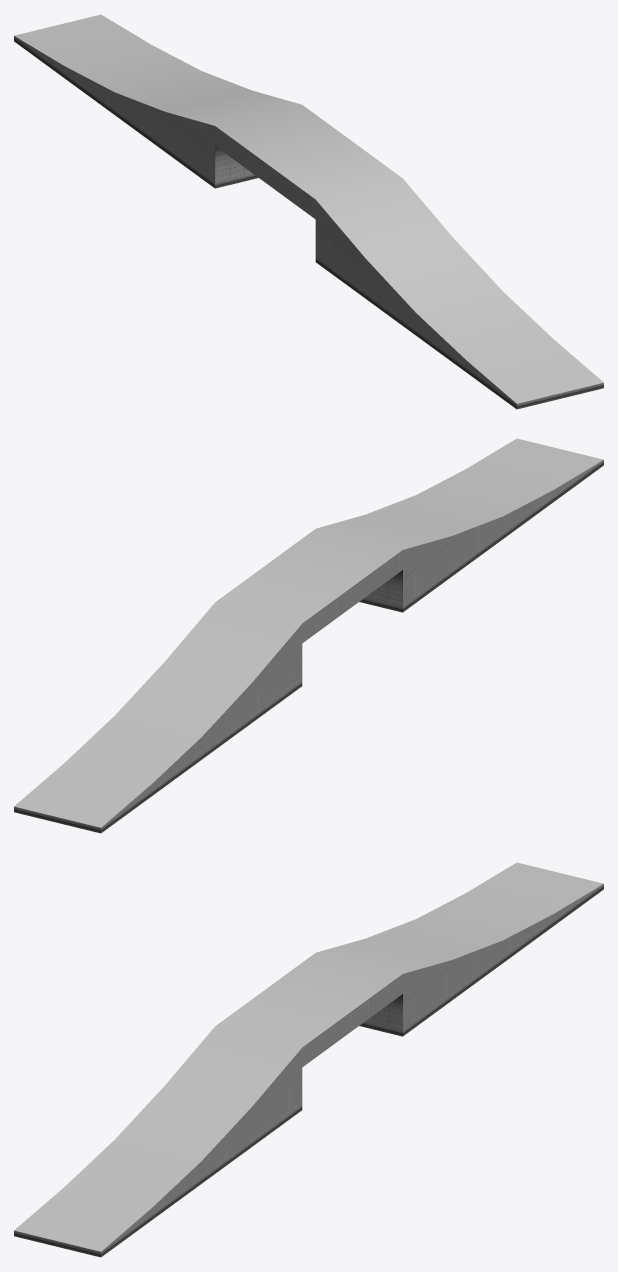
The model's file is TrackBridge03.fbx.
The picture shows the model from 3 angles, top to bottom: view 1: azimuth 30°, elevation 25°; view 2: azimuth 150°, elevation 25°; view 3: azimuth 330°, elevation 25°; orthographic projection.
Visible parts, largest first — view 1: Empty_Mesh; view 2: Empty_Mesh; view 3: Empty_Mesh.
Boxes of the visible parts, x1,y1,x2,y2 form: Empty_Mesh: (14,14,603,409); Empty_Mesh: (14,438,603,833); Empty_Mesh: (14,862,603,1257).
Bounding box in the file's own units: 1600 × 1100 × 16000.
